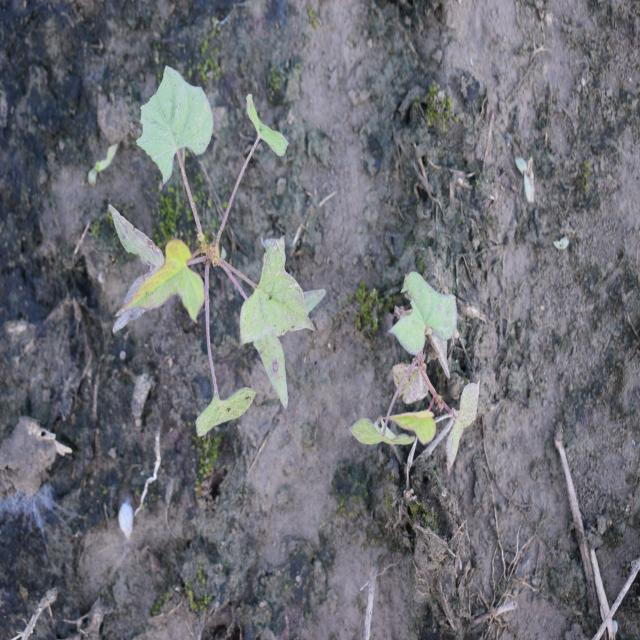MorningGlory: (105, 62, 328, 440), (348, 267, 483, 472)
